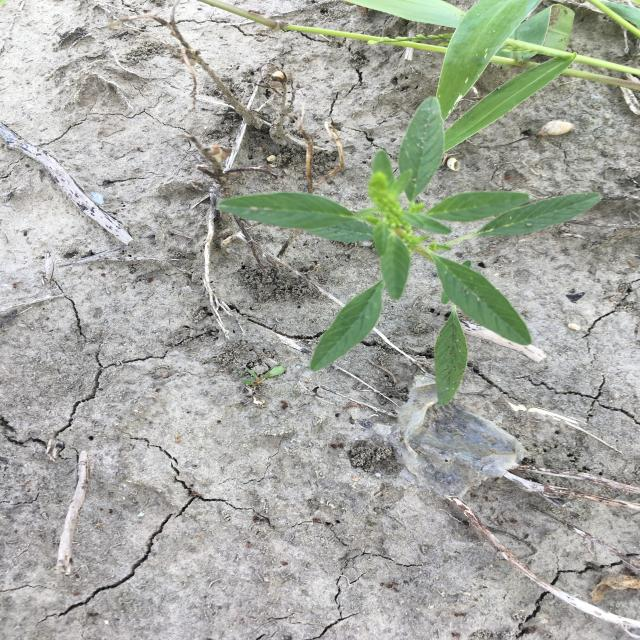Waterhemp: (217, 96, 604, 406)
